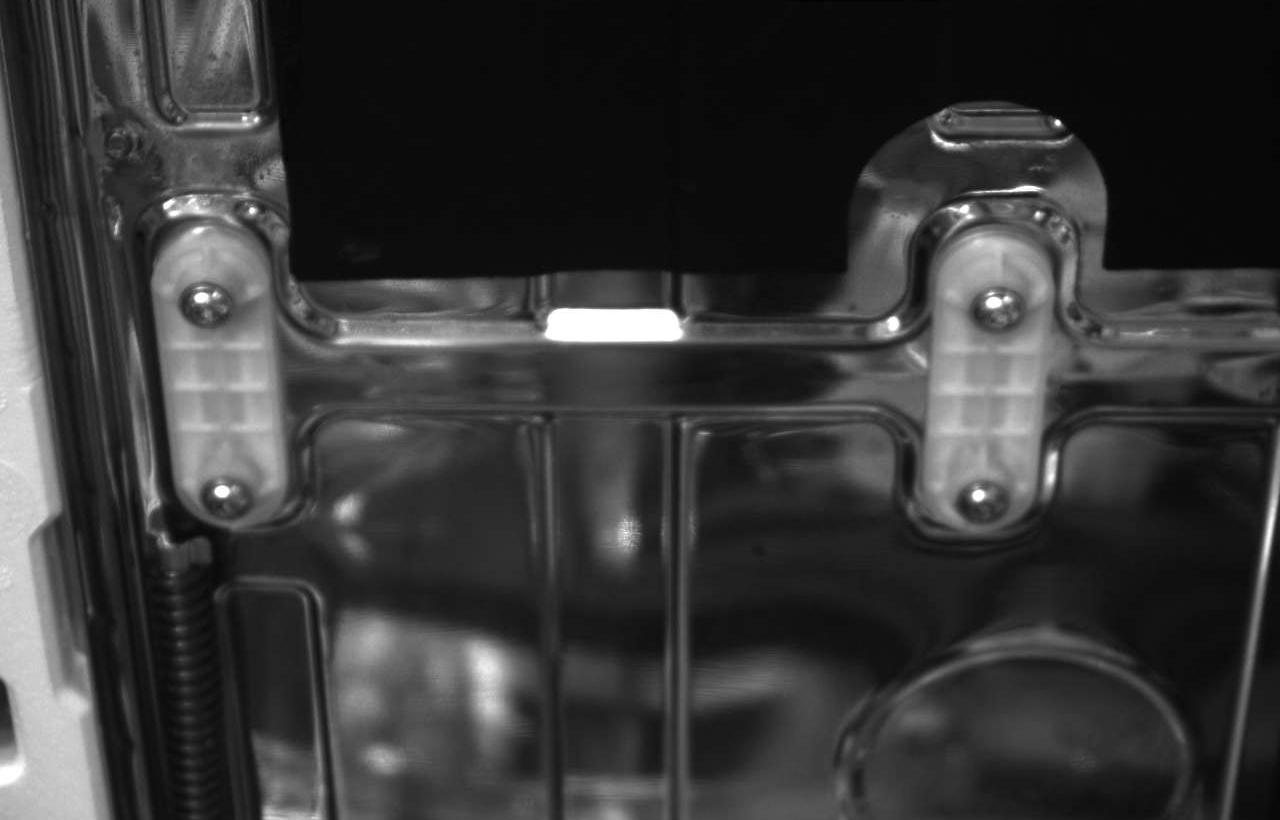vida-ok: (169, 256, 256, 333), (961, 269, 1049, 342), (188, 467, 269, 532), (945, 473, 1020, 532)
